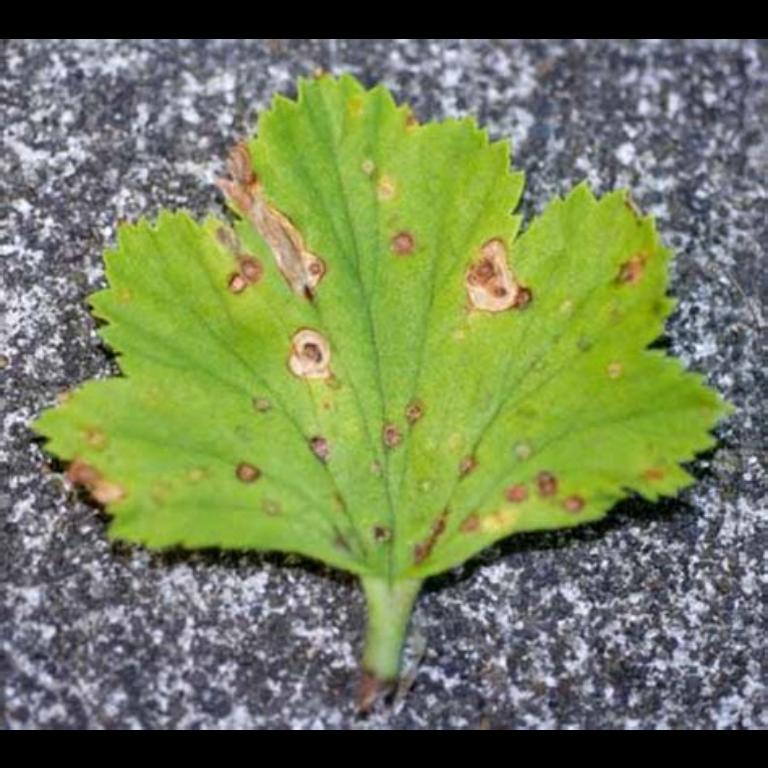blight: (210, 143, 338, 289)
